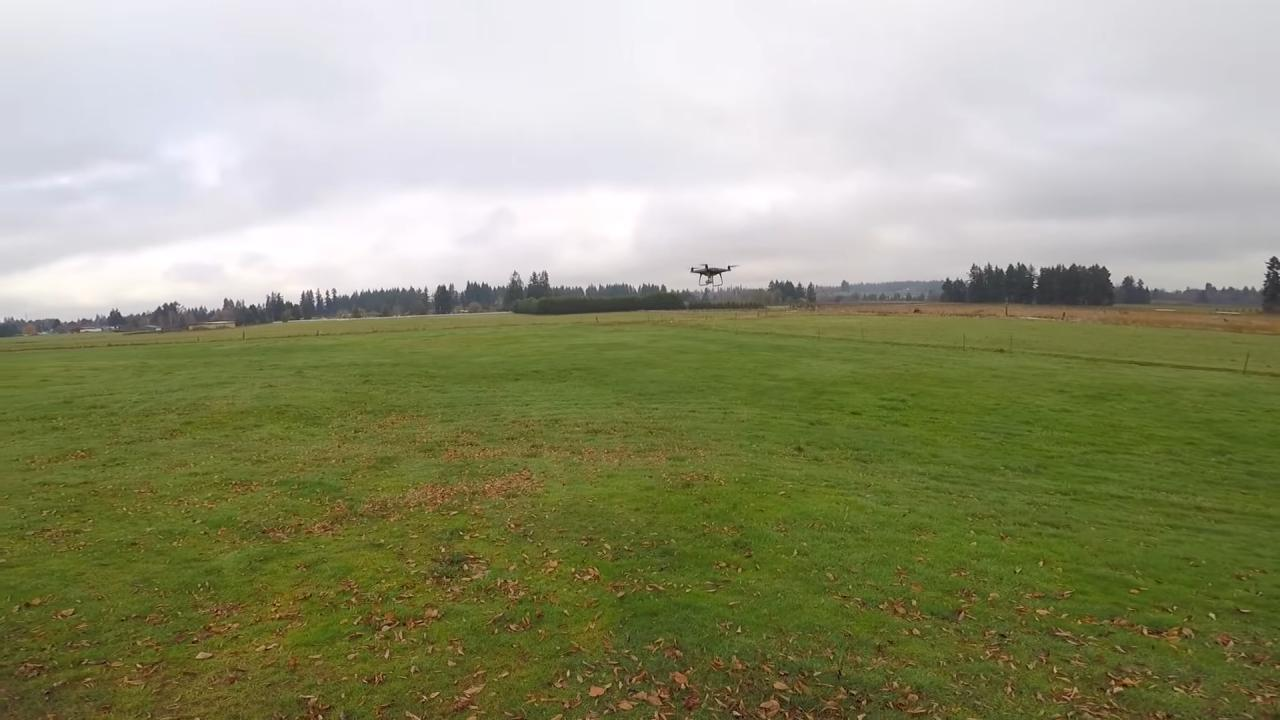Drone: (683, 253, 743, 293)
